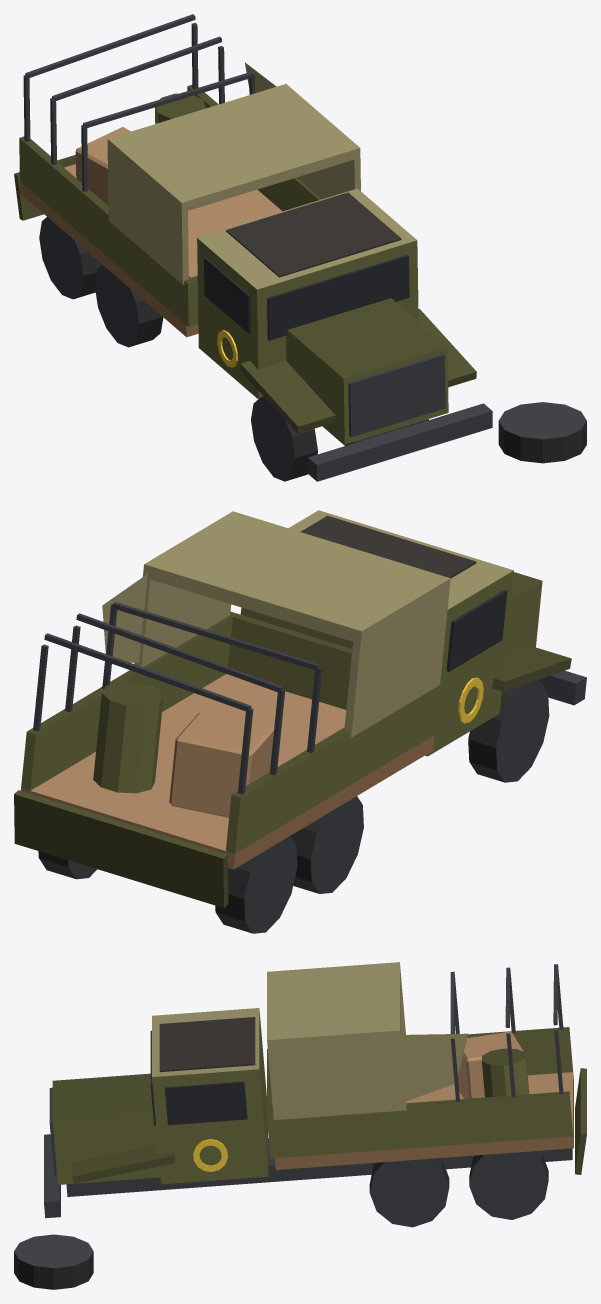
The model's file is truck_wreck.glb.
3 views of the same model, one above another, from view 1: azimuth 30°, elevation 25°; view 2: azimuth 150°, elevation 25°; view 3: azimuth 270°, elevation 25° (orthographic). The views are drawn at different scales.
Visible parts, largest first — view 1: LOD0; view 2: LOD0; view 3: LOD0.
Part boxes in pixels (x1,y1,x2,y2): LOD0: (14,14,586,481); LOD0: (14,510,586,933); LOD0: (14,962,586,1289).
Size of what is drawn, in the model's own units: 3.69 by 3.17 by 7.18.
Materials: 1 (1 with a texture image).
